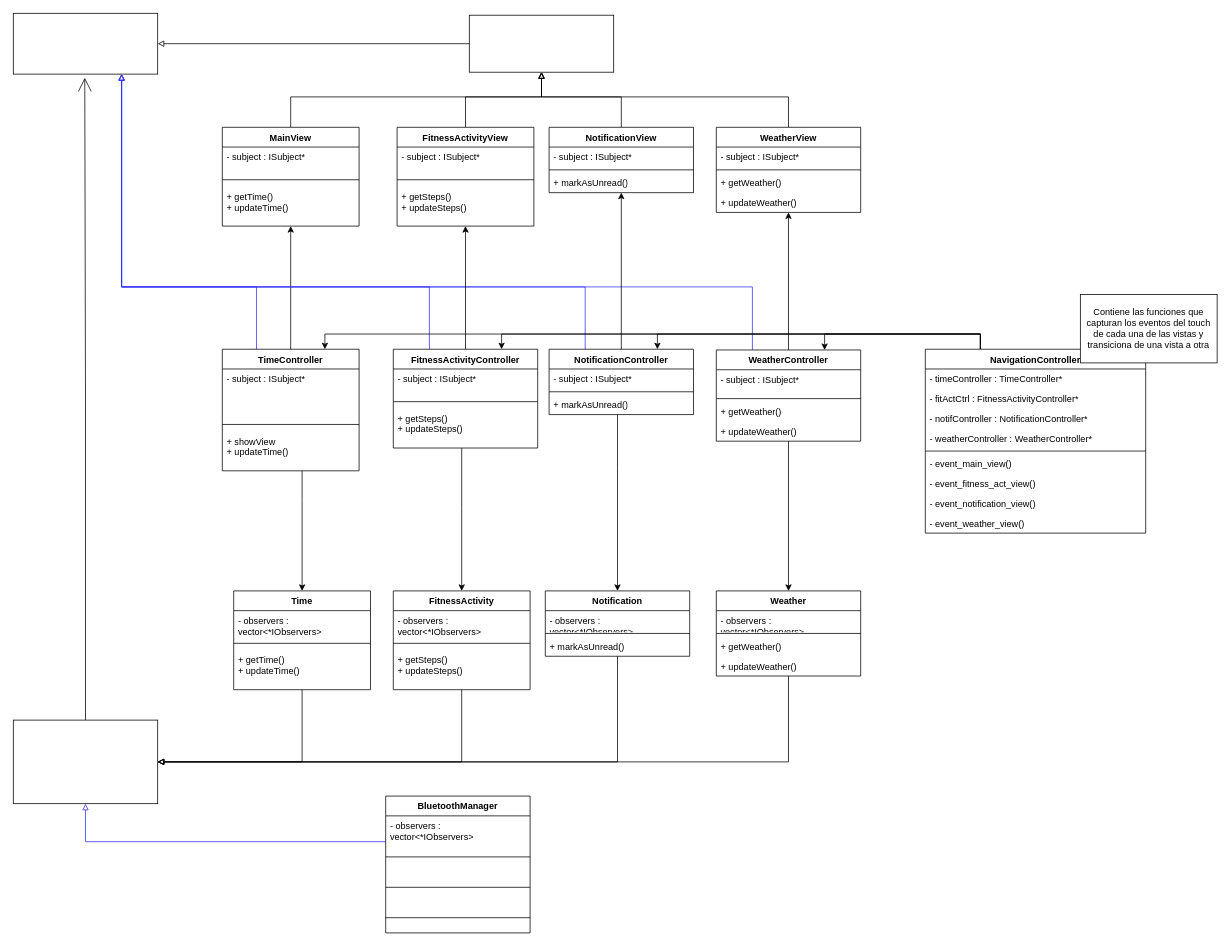
The diagram is 1230 pixels wide and 946 high, and some of its shapes have lost their labels. The shapes that lost their labels are listed below. From the top down, each one's centre as x and y in pixels, then its label:
the point at 85,43: <<Interface>> IObserver + update()
the point at 541,43: <<Interface>> View + update()
the point at 85,761: <<Interface>> ISubject + attach (observer) + detach (observer) + notify()
